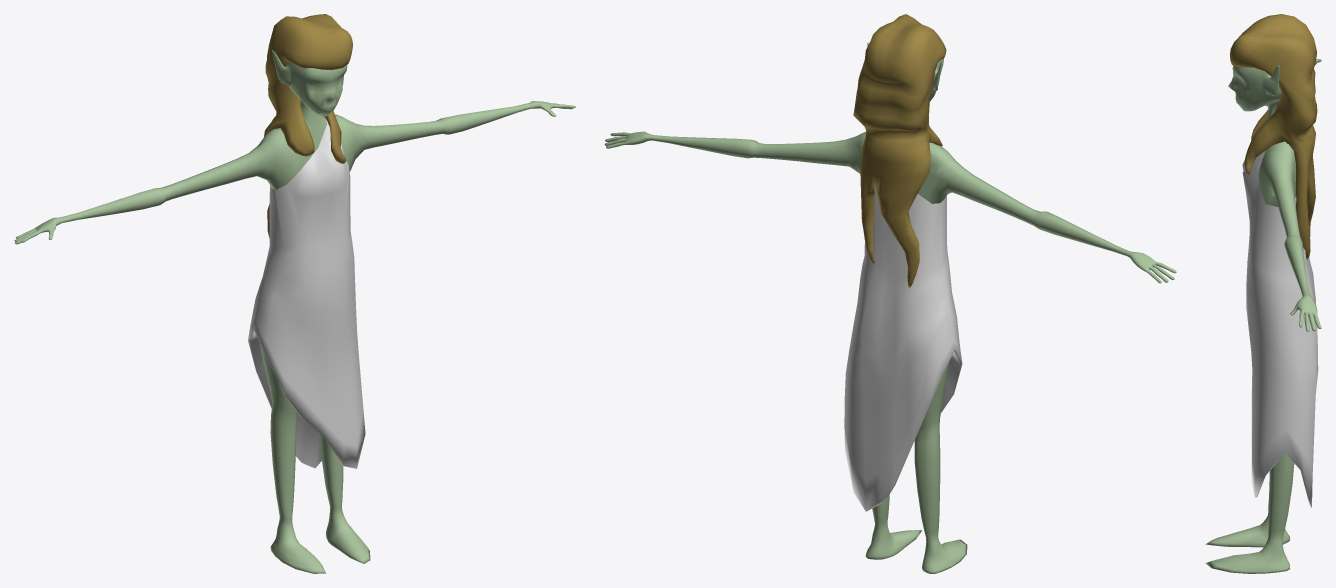
File: Mom13_low_02.fbx
The picture shows the model from 3 angles, left to right: view 1: azimuth 30°, elevation 25°; view 2: azimuth 150°, elevation 25°; view 3: azimuth 270°, elevation 25°; orthographic projection.
Parts seen in each view (by area): view 1: Dress_low, Body_low, Hair_low; view 2: Dress_low, Body_low, Hair_low; view 3: Dress_low, Body_low, Hair_low.
Part boxes in pixels (x1,y1,x2,y2): Dress_low: [248, 119, 365, 468]; Body_low: [14, 50, 575, 573]; Hair_low: [264, 14, 352, 238]; Dress_low: [844, 183, 962, 511]; Body_low: [604, 42, 1176, 573]; Hair_low: [853, 14, 946, 288]; Dress_low: [1242, 151, 1318, 507]; Body_low: [1205, 59, 1321, 573]; Hair_low: [1230, 14, 1317, 259].
Size of the model in its own units: 829 by 748 by 148.
